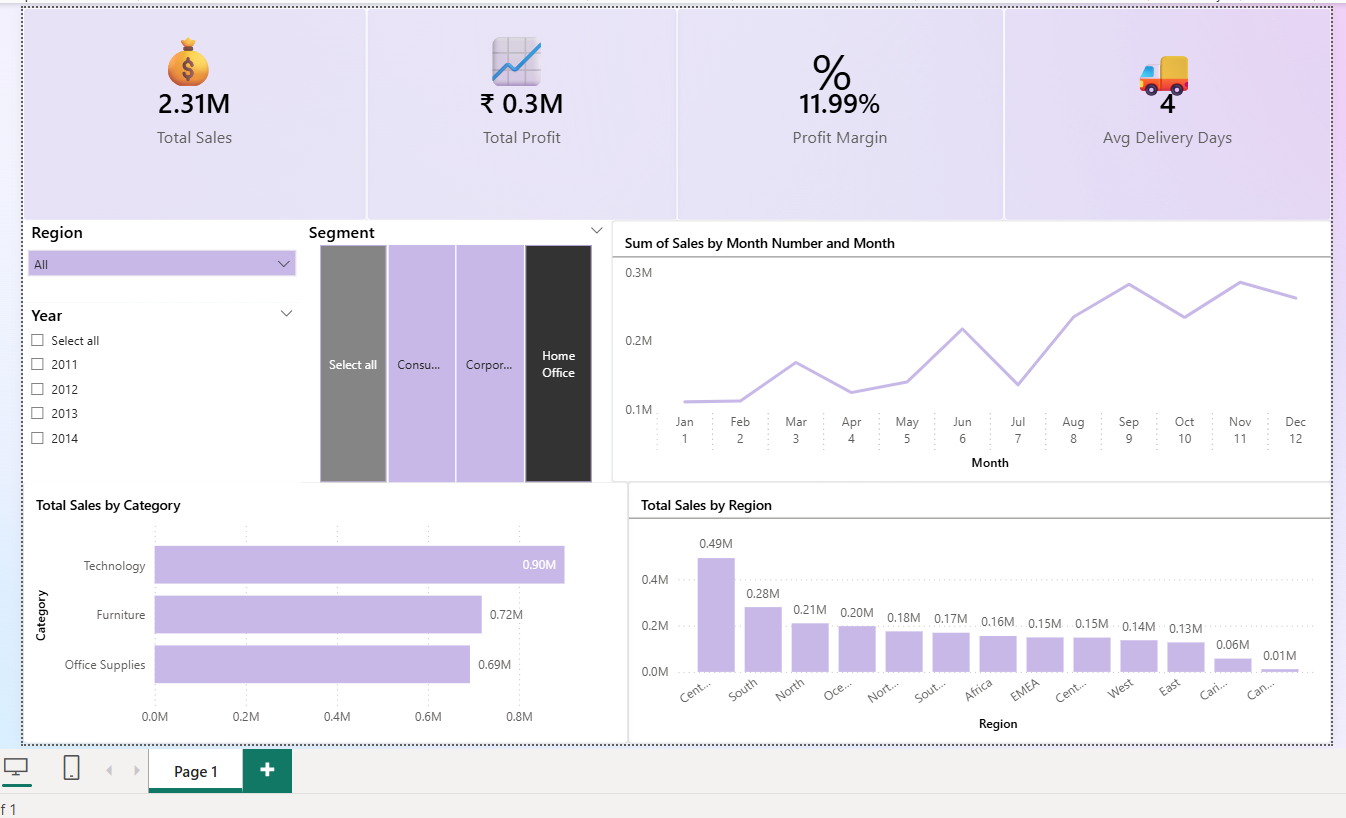

The page's visual inventory and layout, read from the dashboard file:
{"tool":"powerbi","page":{"name":"Page 1","canvas":[1280,720],"ordinal":0},"visuals":[{"type":"card","fields":{"Values":["Measures Table.Total Sales"]},"box":[0,0,336,208],"z":0},{"type":"card","fields":{"Values":["Measures Table.Total Profit"]},"box":[336,0,304,208],"z":1000},{"type":"card","fields":{"Values":["Measures Table.Profit Margin"]},"box":[640,0,320,208],"z":2000},{"type":"card","fields":{"Values":["Measures Table.Avg Delivery Days"]},"box":[960,0,320,208],"z":3000},{"type":"textbox","box":[123.3,11.7,83.3,75],"z":4000},{"type":"textbox","box":[445,11.7,78.3,76.7],"z":5000},{"type":"textbox","box":[766.7,23.3,66.7,83.3],"z":6000},{"type":"textbox","box":[1078.3,21.7,85,85],"z":7000},{"type":"lineChart","fields":{"Category":["Calendar.Month Number","Calendar.Month"],"Y":["Sum(Global-Superstore - Copy.Sales)"]},"box":[576,208,704,256],"z":8000},{"type":"clusteredColumnChart","fields":{"Category":["Global-Superstore - Copy.Region"],"Y":["Measures Table.Total Sales"]},"box":[592,464,688,256],"z":8001},{"type":"clusteredBarChart","fields":{"Category":["Global-Superstore - Copy.Category"],"Y":["Measures Table.Total Sales"]},"box":[0,464,592,256],"z":8002},{"type":"slicer","fields":{"Values":["Calendar.Year"]},"box":[0,288,272,176],"z":8003},{"type":"slicer","fields":{"Values":["Global-Superstore - Copy.Region"]},"box":[0,208,272,80],"z":8004},{"type":"slicer","fields":{"Values":["Global-Superstore - Copy.Segment"]},"box":[272,208,304,256],"z":8005}]}

Visuals, with their boxes on the page's 1280x720 design canvas (x1, y1, x2, y2). These are canvas units, not pixel positions in the 1346x818 screenshot, which may show the page scaled, cropped or inside an application window:
card - Measures Table.Total Sales: bbox(0, 0, 336, 208)
card - Measures Table.Total Profit: bbox(336, 0, 640, 208)
card - Measures Table.Profit Margin: bbox(640, 0, 960, 208)
card - Measures Table.Avg Delivery Days: bbox(960, 0, 1280, 208)
textbox: bbox(123, 12, 207, 87)
textbox: bbox(445, 12, 523, 88)
textbox: bbox(767, 23, 833, 107)
textbox: bbox(1078, 22, 1163, 107)
lineChart - Calendar.Month Number x Calendar.Month: bbox(576, 208, 1280, 464)
clusteredColumnChart - Global-Superstore - Copy.Region x Measures Table.Total Sales: bbox(592, 464, 1280, 720)
clusteredBarChart - Global-Superstore - Copy.Category x Measures Table.Total Sales: bbox(0, 464, 592, 720)
slicer - Calendar.Year: bbox(0, 288, 272, 464)
slicer - Global-Superstore - Copy.Region: bbox(0, 208, 272, 288)
slicer - Global-Superstore - Copy.Segment: bbox(272, 208, 576, 464)
